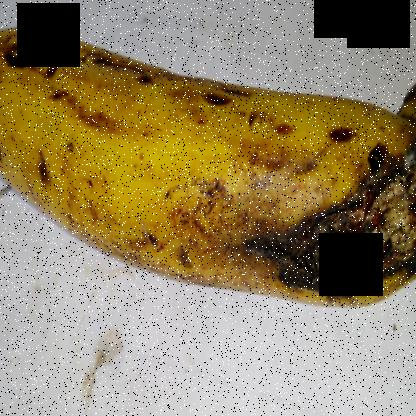ripe: (0, 28, 241, 300)
rotten: (202, 76, 416, 326)
